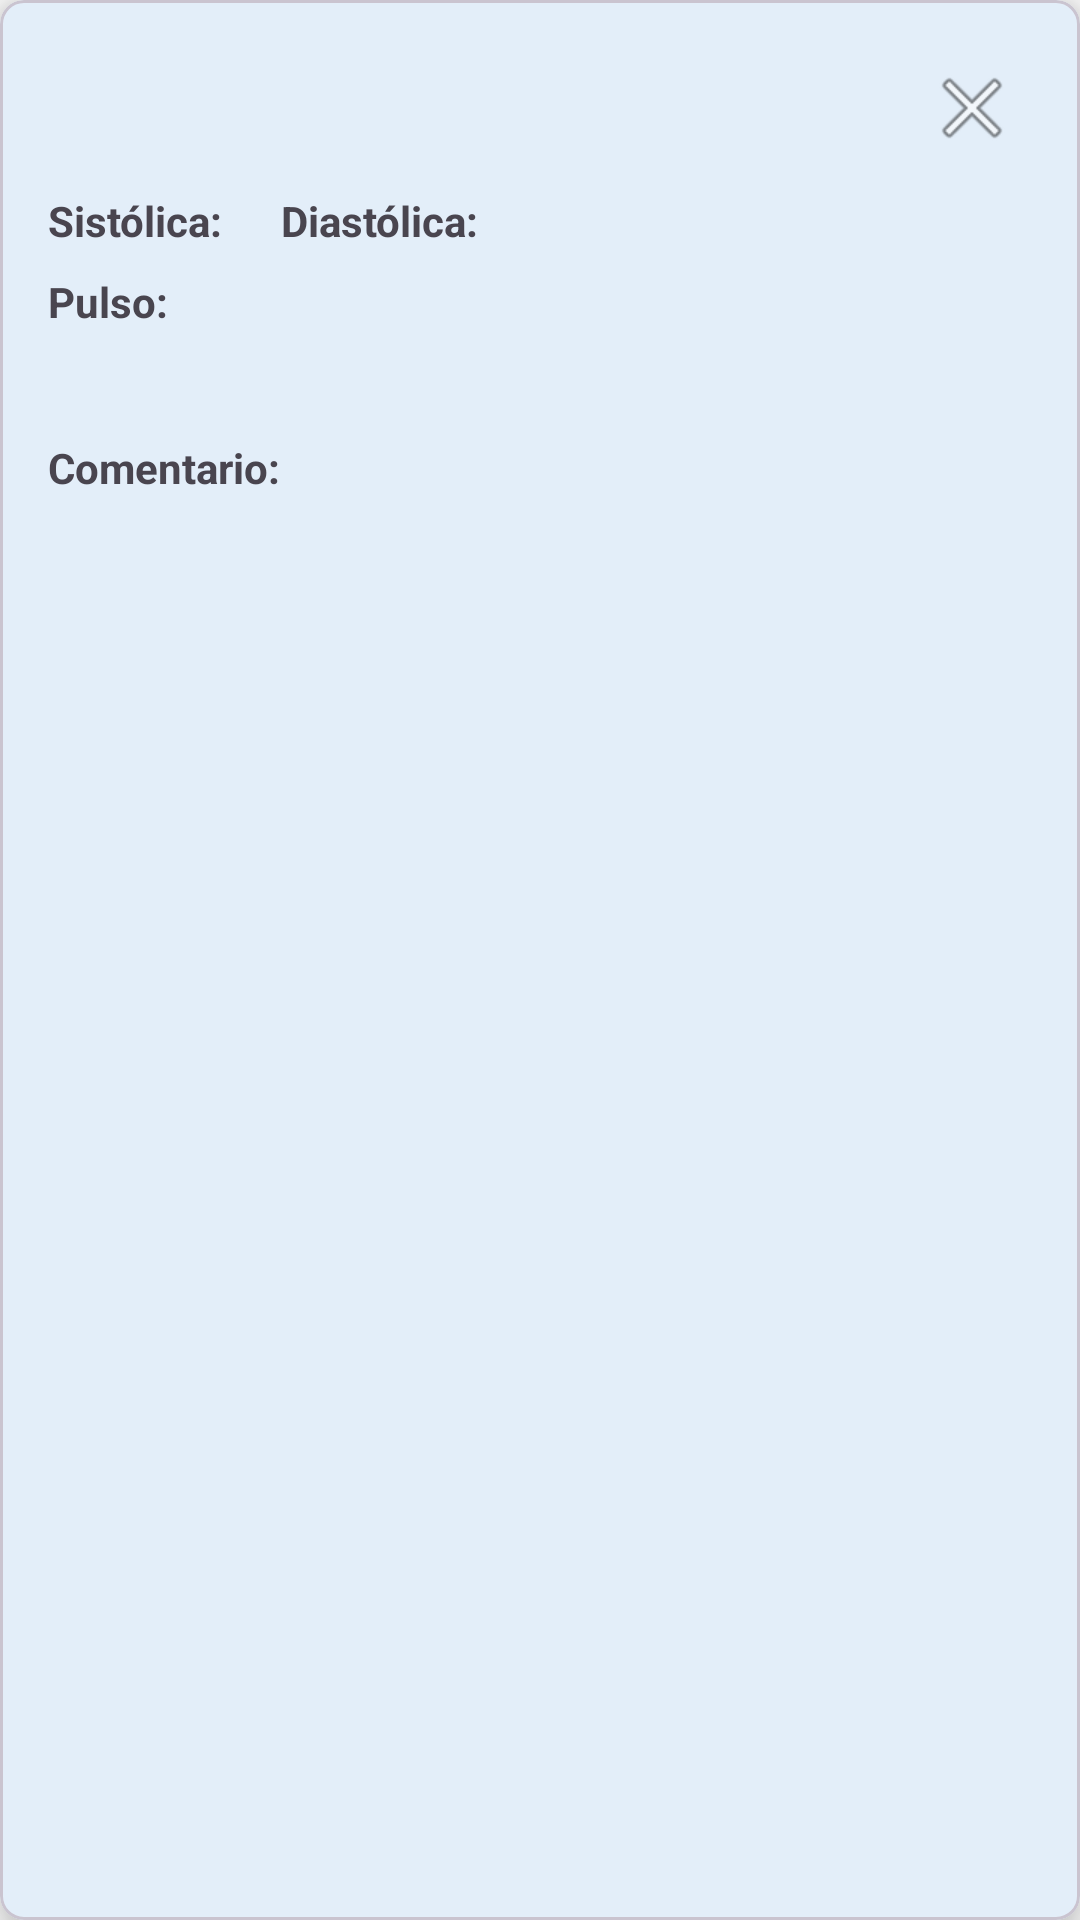

Locate icon controls on the screen. Image size 1080w x 1920h, boxes as (x1, y1, x2, y2).
Cerrar: (942, 78, 1002, 138)
